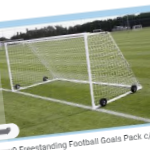goals: (3, 30, 146, 113)
